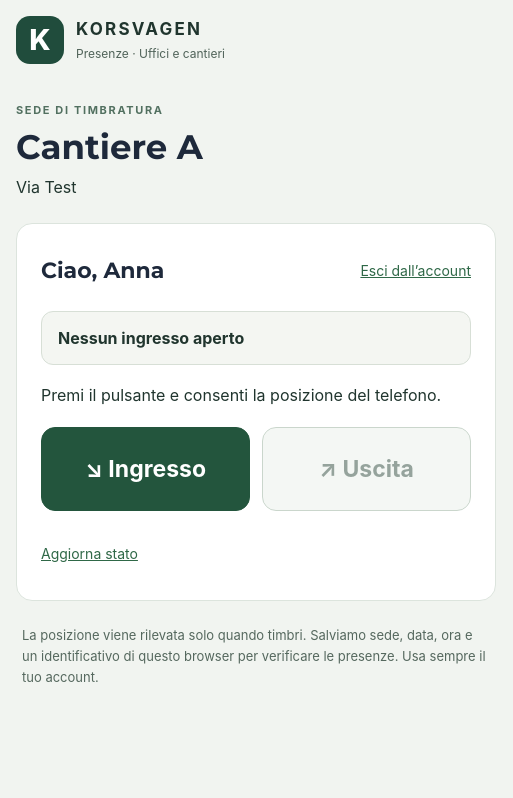
Test case: a lost HTTP response is recovered by receipt ID without submitting a second stamp
The image size is (513, 798).
Click the button "↘ Ingresso": (146, 469) [41,427,250,511]
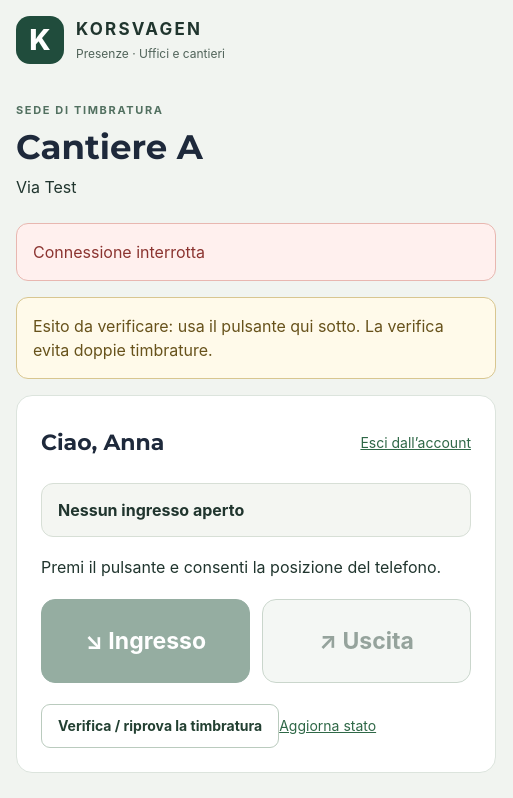
Check: the text "Connessione interrotta" is shown, box [16,223,496,281]
Check: the button "↘ Ingresso" is disabled, box [41,599,250,683]
Click the button "Verifica / riprova la timbratura": (160, 726) [41,704,279,748]
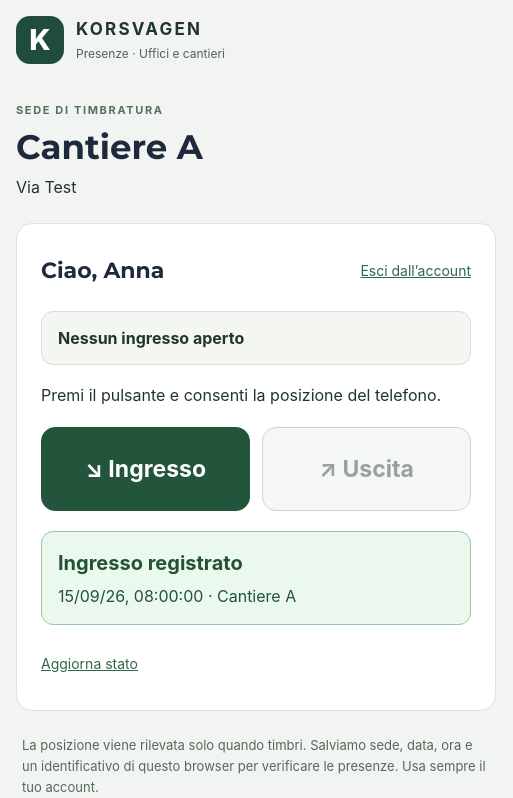
Check: the text "Ingresso registrato" is shown, box [58,551,243,575]
